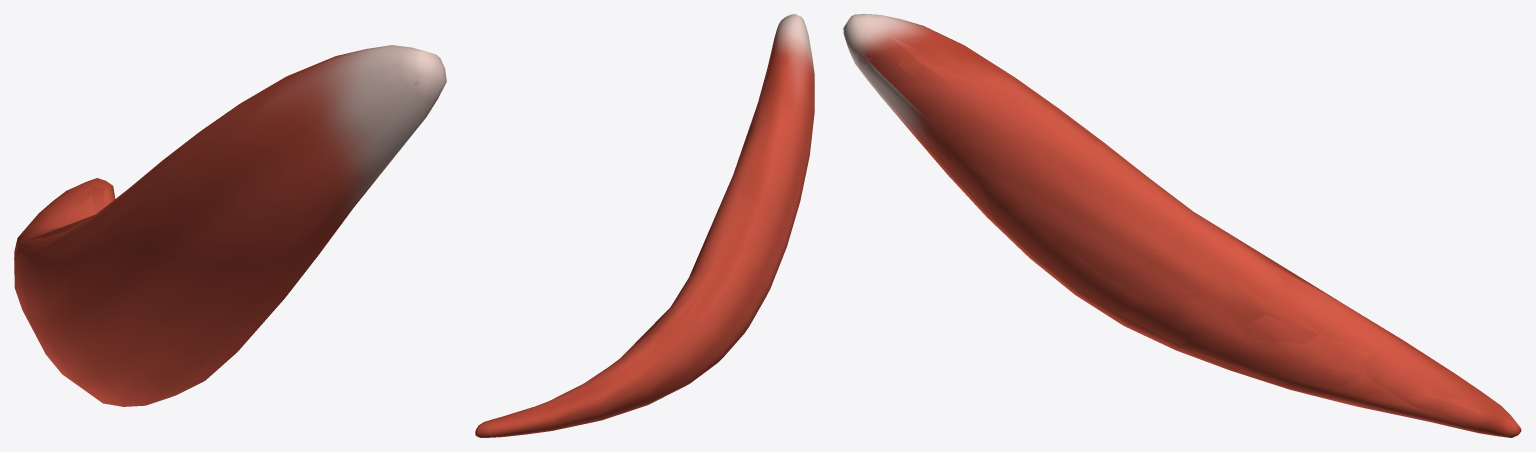
The model's file is R Sternocephalicus.fbx.
3 views of the same model, side by side, from view 1: azimuth 30°, elevation 25°; view 2: azimuth 150°, elevation 25°; view 3: azimuth 270°, elevation 25° (orthographic). The views are drawn at different scales.
Parts seen in each view (by area): view 1: R Sternocephalicus, R Sternocephalicus low, R Sternocephalicus high; view 2: R Sternocephalicus, R Sternocephalicus low, R Sternocephalicus high; view 3: R Sternocephalicus low, R Sternocephalicus, R Sternocephalicus high.
Part boxes in pixels (left/top/right/bottom): R Sternocephalicus: left=14, top=45, right=446, bottom=406; R Sternocephalicus low: left=21, top=64, right=425, bottom=406; R Sternocephalicus high: left=16, top=47, right=440, bottom=403; R Sternocephalicus: left=475, top=14, right=814, bottom=437; R Sternocephalicus low: left=481, top=25, right=812, bottom=435; R Sternocephalicus high: left=484, top=16, right=804, bottom=437; R Sternocephalicus low: left=857, top=36, right=1510, bottom=430; R Sternocephalicus: left=843, top=14, right=1521, bottom=437; R Sternocephalicus high: left=850, top=14, right=1512, bottom=436.
Size of the model in its own units: 5.47 by 9.76 by 15.92.
